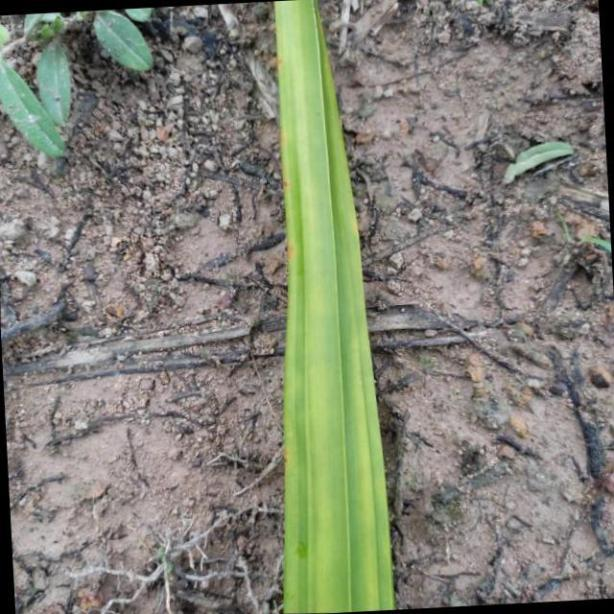nitrogen: (274, 0, 394, 614)
